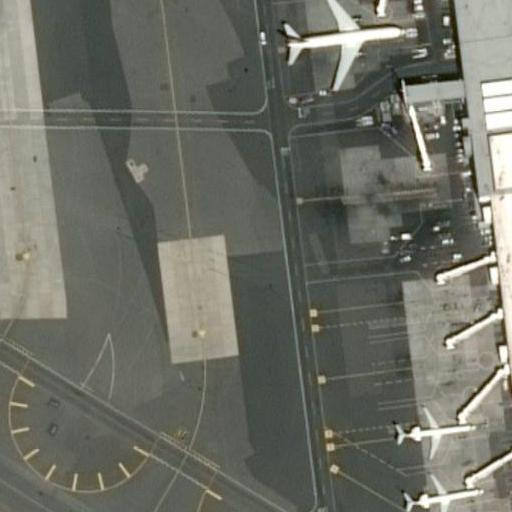Aircraft: (273, 0, 414, 97), (378, 395, 478, 461), (389, 461, 487, 512)
